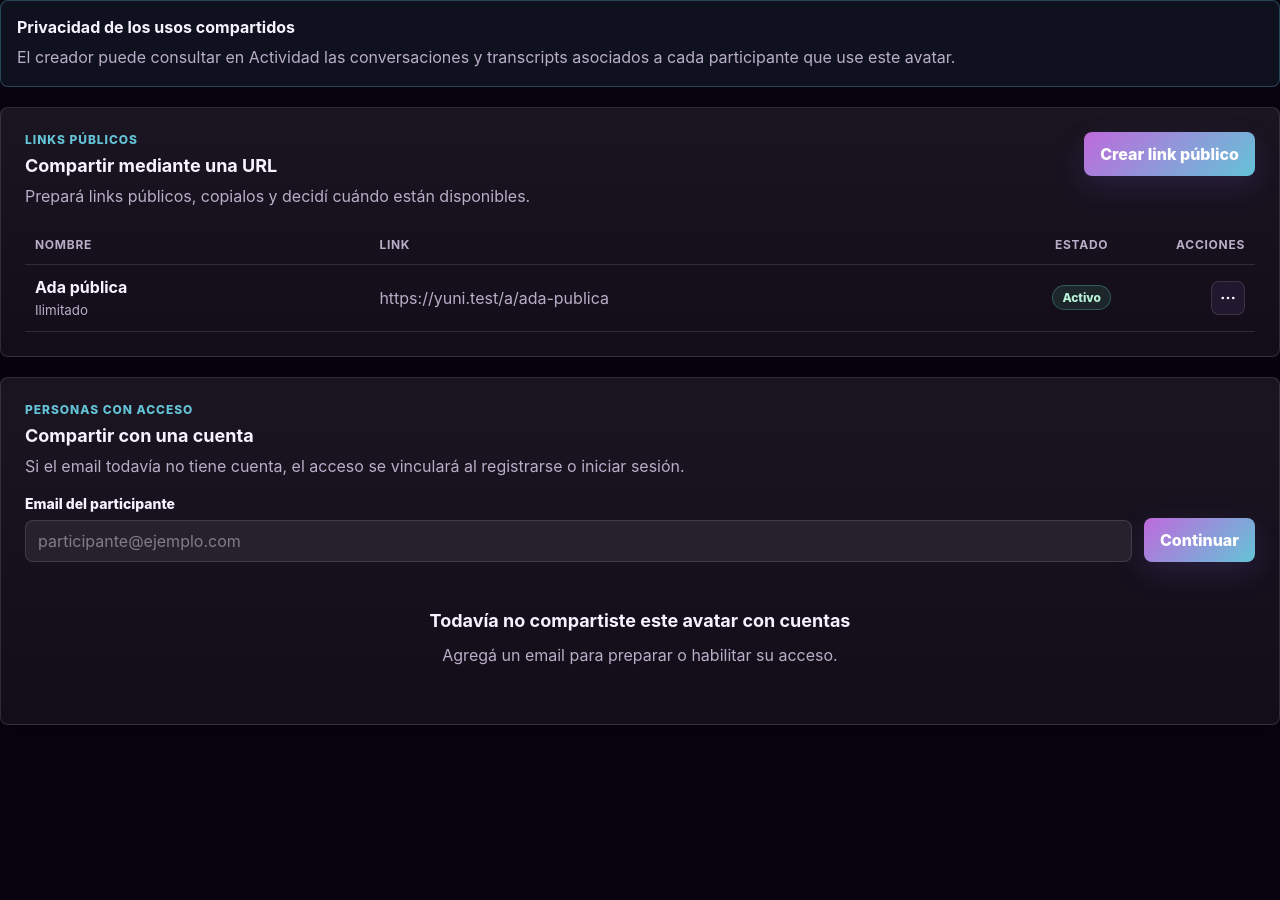
Scenario: sharing and limits toast feedback › reports when the browser actually blocks a public link
Click the button named "Acciones para Ada pública" at (1228, 298), box [1211, 281, 1245, 315]
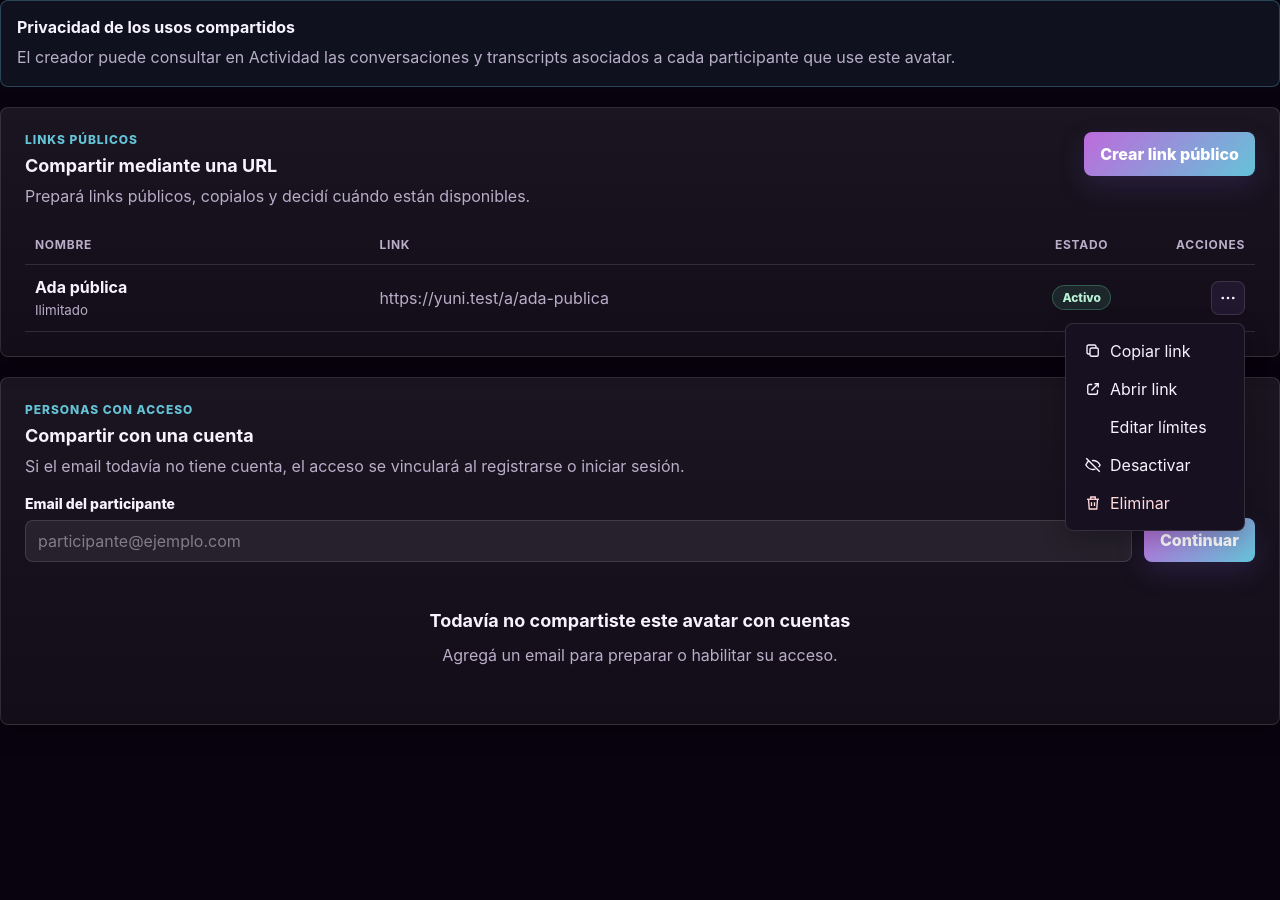
Click the menu item "Abrir link" at (1155, 389), box [1074, 370, 1236, 408]
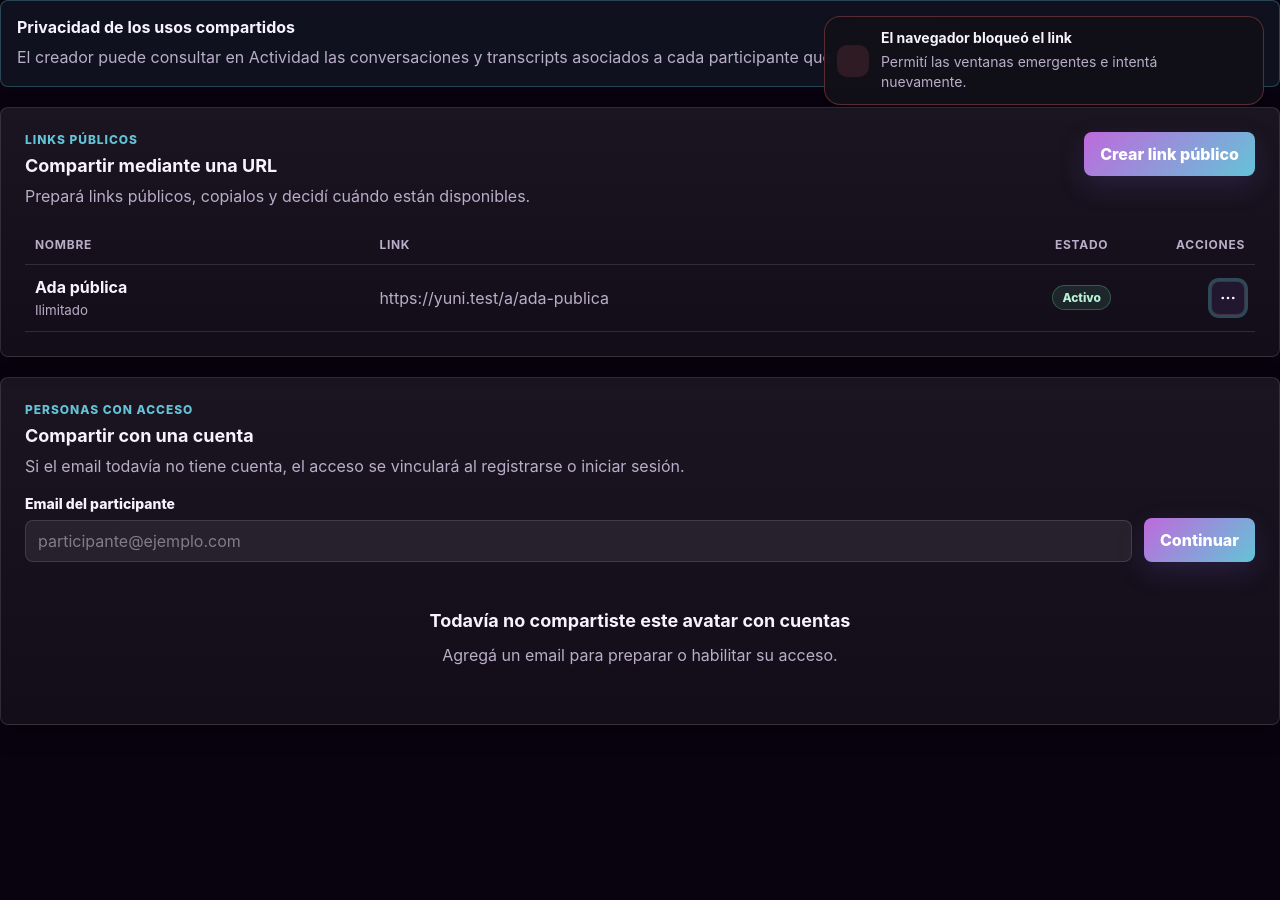
Result: the message shows "El navegador bloqueó el link" at [881, 29, 1072, 46]
